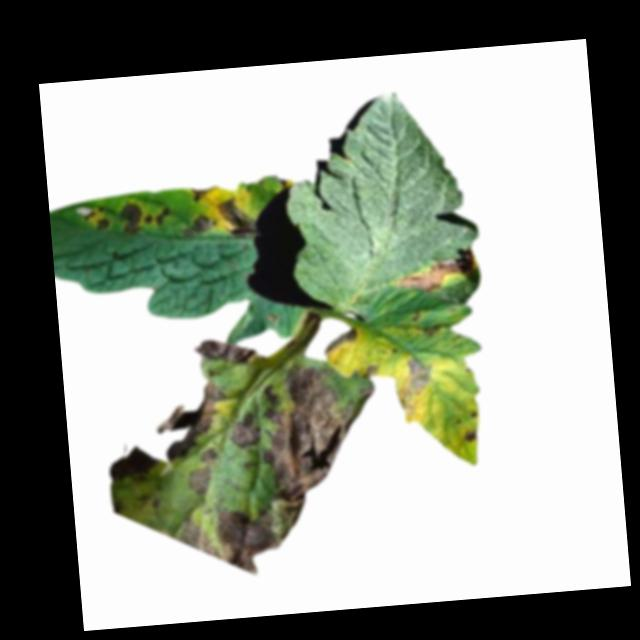Early_blight: (249, 356, 362, 504), (177, 500, 297, 582), (152, 377, 233, 461), (393, 243, 479, 293), (191, 329, 254, 369), (392, 355, 434, 411), (101, 440, 158, 479), (214, 196, 256, 242), (229, 407, 264, 451), (74, 200, 112, 232), (184, 463, 214, 502), (324, 324, 358, 352), (116, 197, 140, 236), (177, 212, 210, 240), (141, 203, 172, 229), (186, 181, 213, 204), (361, 360, 378, 378), (462, 424, 477, 443)
